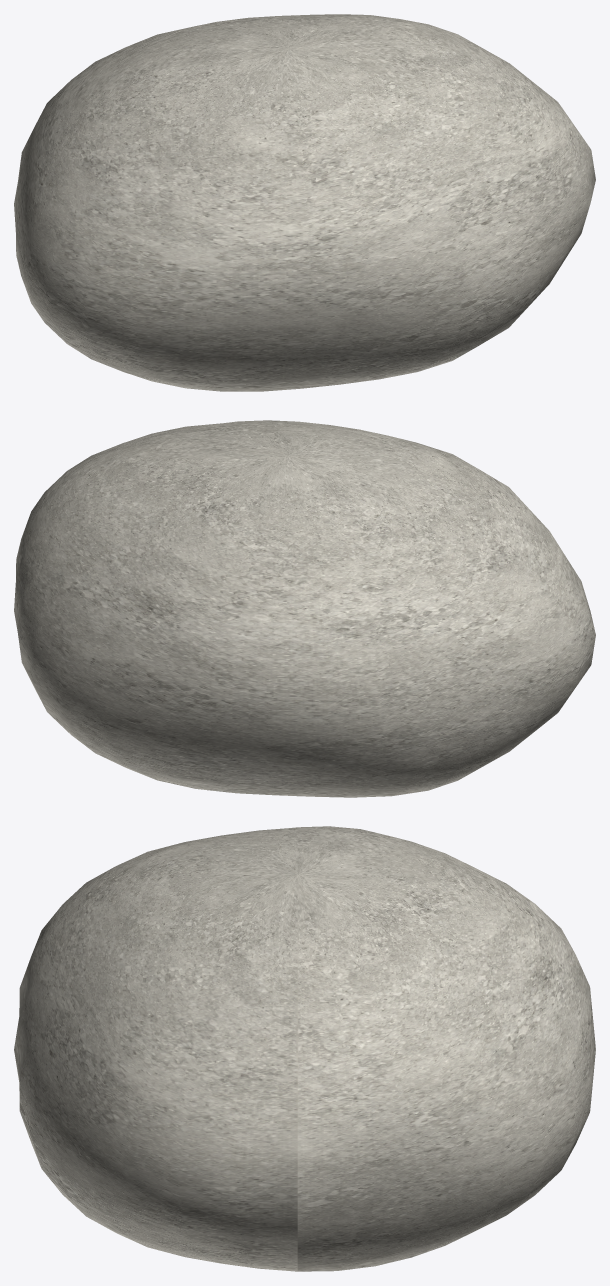
File: guti_pebble_light.glb
3 renders of one model, top to bottom at view 1: azimuth 30°, elevation 25°; view 2: azimuth 150°, elevation 25°; view 3: azimuth 270°, elevation 25°, orthographic. The views are drawn at different scales.
Visible parts, largest first — view 1: guti_pebble_light; view 2: guti_pebble_light; view 3: guti_pebble_light.
Part boxes in pixels (left/top/right/bottom): guti_pebble_light: left=14, top=14, right=595, bottom=391; guti_pebble_light: left=14, top=420, right=595, bottom=797; guti_pebble_light: left=14, top=826, right=595, bottom=1271.
Bounding box in the file's own units: 0.025 × 0.012 × 0.021.
Materials: 1 (1 with a texture image).
